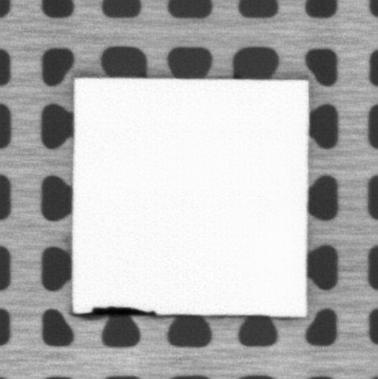DIE_BROKEN: (77, 305, 159, 317)
